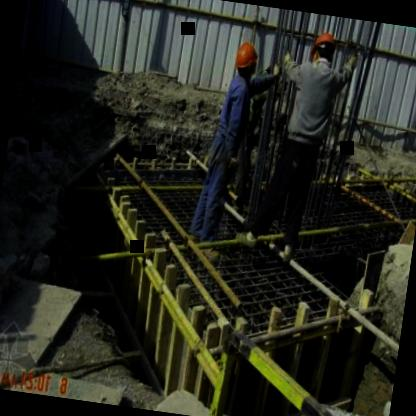helmet: (231, 36, 260, 80), (308, 27, 339, 67)
